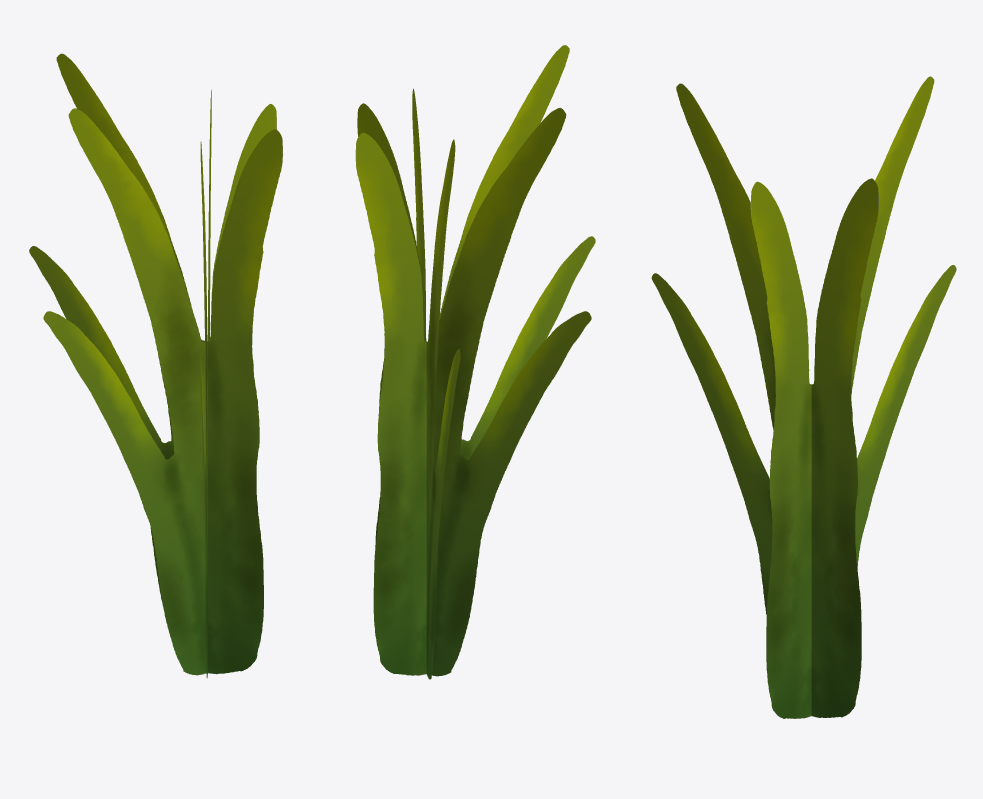
The model's file is ALGA_03C.fbx.
3 renders of one model, left to right at view 1: azimuth 30°, elevation 25°; view 2: azimuth 150°, elevation 25°; view 3: azimuth 270°, elevation 25°, orthographic.
Parts seen in each view (by area): view 1: ALGA_03C; view 2: ALGA_03C; view 3: ALGA_03C.
Part boxes in pixels (x1,y1,x2,y2): ALGA_03C: [29, 53, 283, 678]; ALGA_03C: [355, 45, 595, 679]; ALGA_03C: [651, 76, 956, 718].
Bounding box in the file's own units: 19.66 × 44.82 × 20.97.
